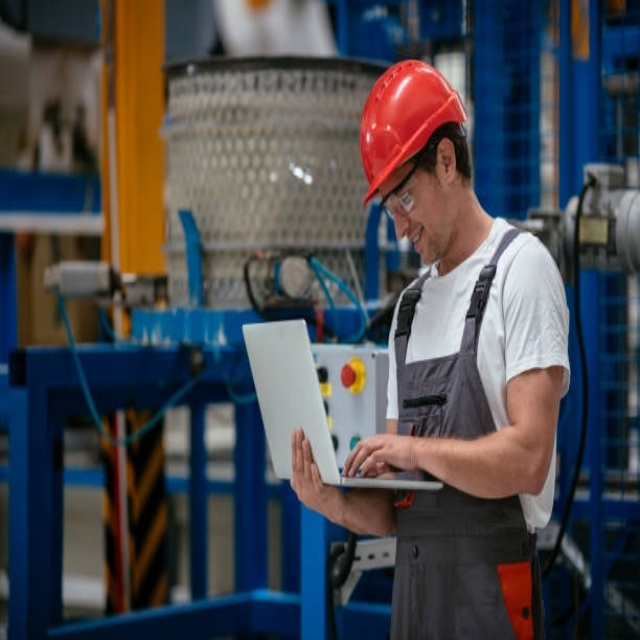Gafas: (378, 143, 433, 219)
Sin_guantes: (288, 427, 340, 513), (340, 427, 414, 477)
Sin_mascara: (404, 218, 440, 260)
